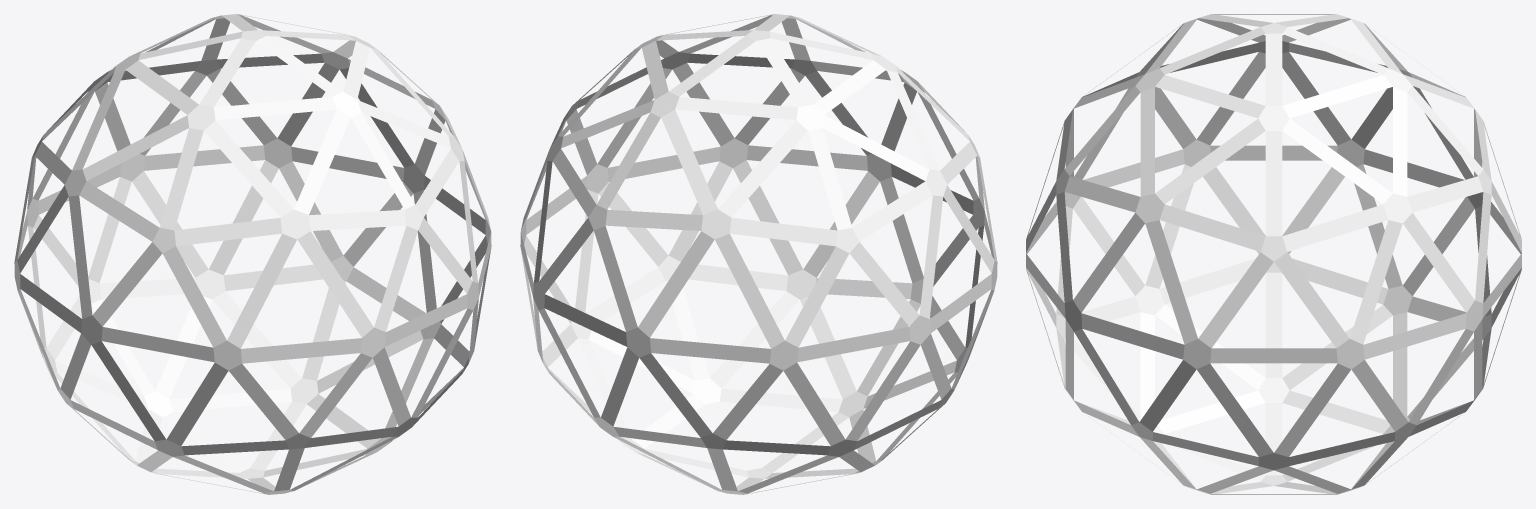
The model's file is Skydome.gltf.
3 renders of one model, left to right at view 1: azimuth 30°, elevation 25°; view 2: azimuth 150°, elevation 25°; view 3: azimuth 270°, elevation 25°, orthographic. The views are drawn at different scales.
Parts seen in each view (by area): view 1: ICO球; view 2: ICO球; view 3: ICO球.
Boxes of the visible parts, <box> form: ICO球: <box>14,14,491,494</box>; ICO球: <box>520,14,997,494</box>; ICO球: <box>1026,14,1521,494</box>.
Size of the model in its own units: 0.9469 by 0.9805 by 0.9765.
